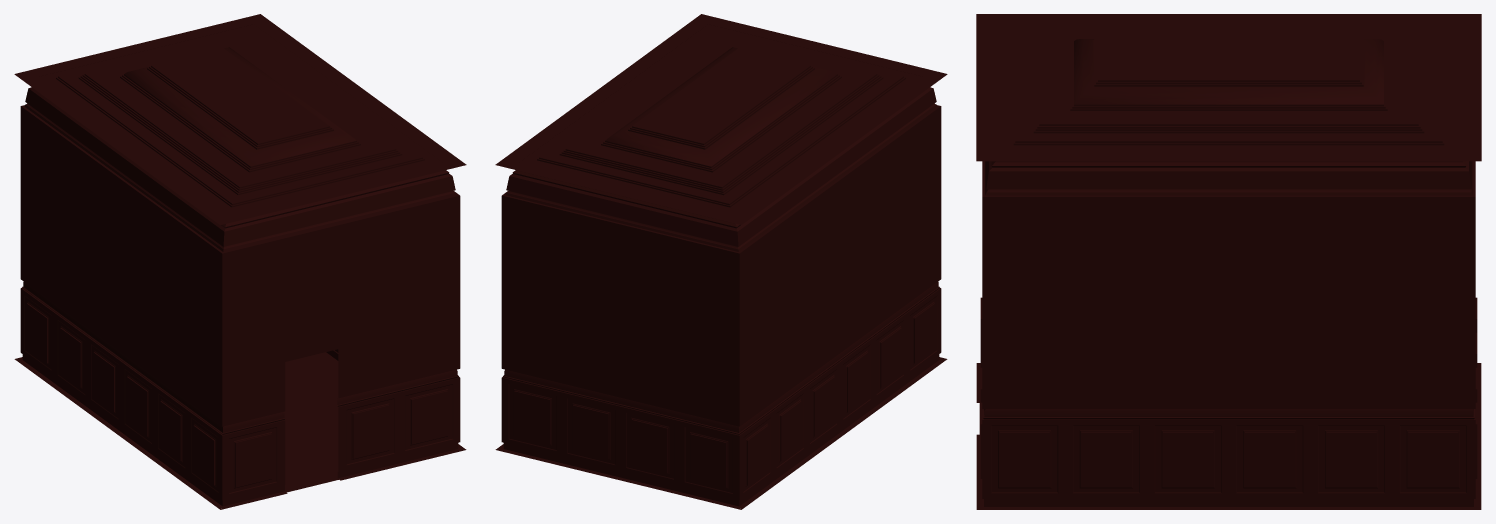
File: 1door_room_L.FBX
The picture shows the model from 3 angles, left to right: view 1: azimuth 30°, elevation 25°; view 2: azimuth 150°, elevation 25°; view 3: azimuth 270°, elevation 25°; orthographic projection. The views are drawn at different scales.
Parts seen in each view (by area): view 1: hallway_dead_end; view 2: hallway_dead_end; view 3: hallway_dead_end.
Boxes of the visible parts, x1,y1,x2,y2 form: hallway_dead_end: (14, 14, 466, 509); hallway_dead_end: (495, 14, 947, 509); hallway_dead_end: (976, 14, 1481, 509).
Size of the model in its own units: 160 by 232 by 192.
